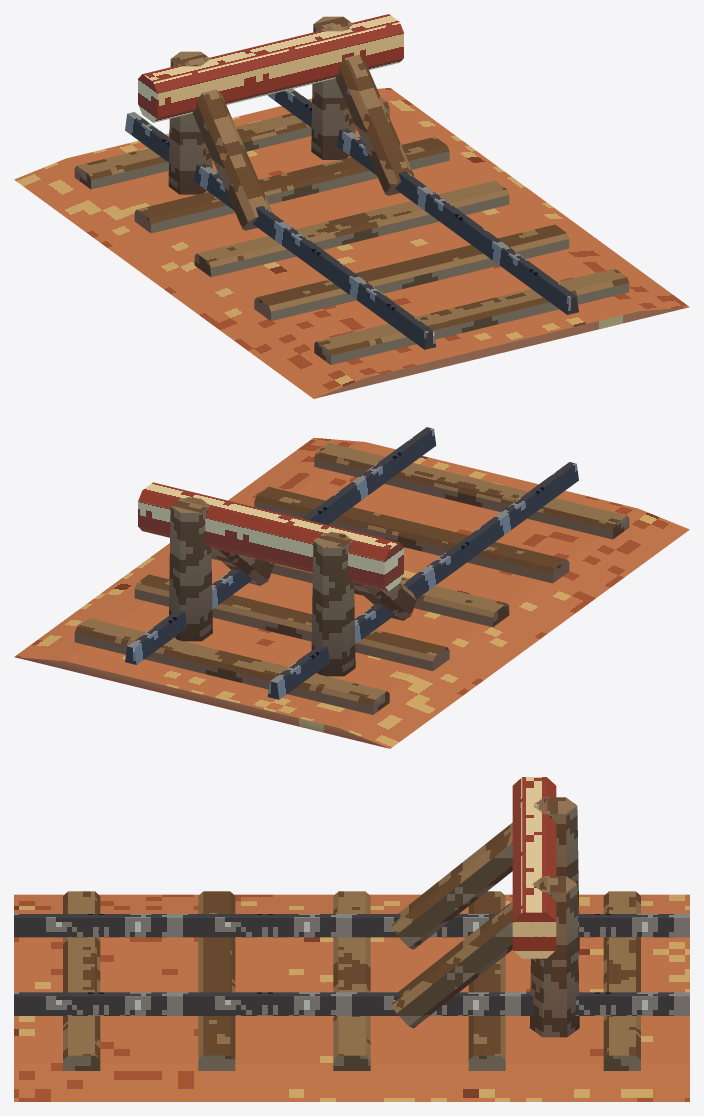
Rendered from wrail.track__bumper.glb.
3 views of the same model, one above another, from view 1: azimuth 30°, elevation 25°; view 2: azimuth 150°, elevation 25°; view 3: azimuth 270°, elevation 25° (orthographic). The views are drawn at different scales.
Parts seen in each view (by area): view 1: kit_ballast, kit_ties, kit_bumper, kit_rails; view 2: kit_ballast, kit_ties, kit_bumper, kit_rails; view 3: kit_ballast, kit_rails, kit_bumper, kit_ties.
Boxes of the visible parts, <box> form: kit_ballast: <box>14,88,689,398</box>; kit_ties: <box>74,97,629,364</box>; kit_bumper: <box>138,14,415,230</box>; kit_rails: <box>125,89,578,349</box>; kit_ballast: <box>14,437,689,748</box>; kit_ties: <box>74,443,629,714</box>; kit_bumper: <box>138,482,416,676</box>; kit_rails: <box>125,427,578,699</box>; kit_ballast: <box>14,894,689,1101</box>; kit_rails: <box>14,914,689,1015</box>; kit_bumper: <box>391,777,579,1037</box>; kit_ties: <box>63,891,640,1070</box>.
Bounding box in the file's own units: 2.9 × 1.03 × 4.
5 materials, 5 textured.
